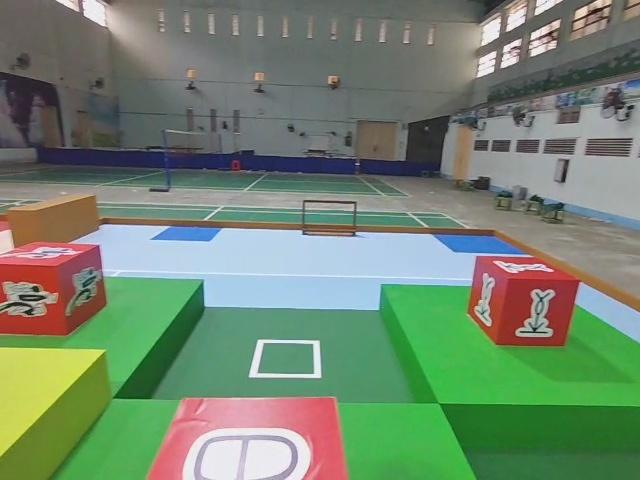R1: (0, 237, 109, 337)
R2 Fake: (144, 393, 350, 480)
R2 Real: (465, 253, 583, 348)
